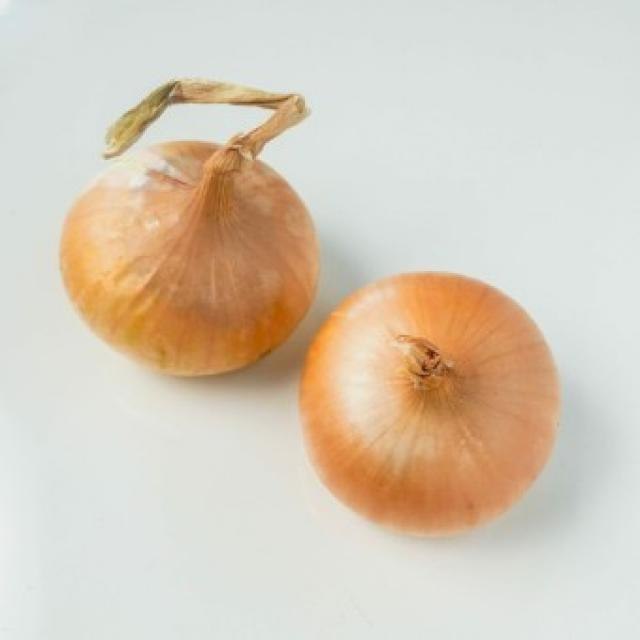onion: (57, 81, 321, 382), (297, 272, 561, 543)
